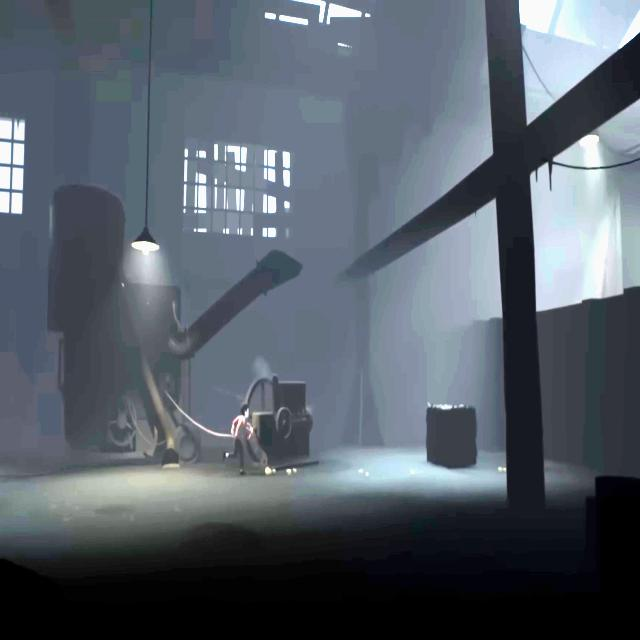boy: (224, 403, 269, 473)
